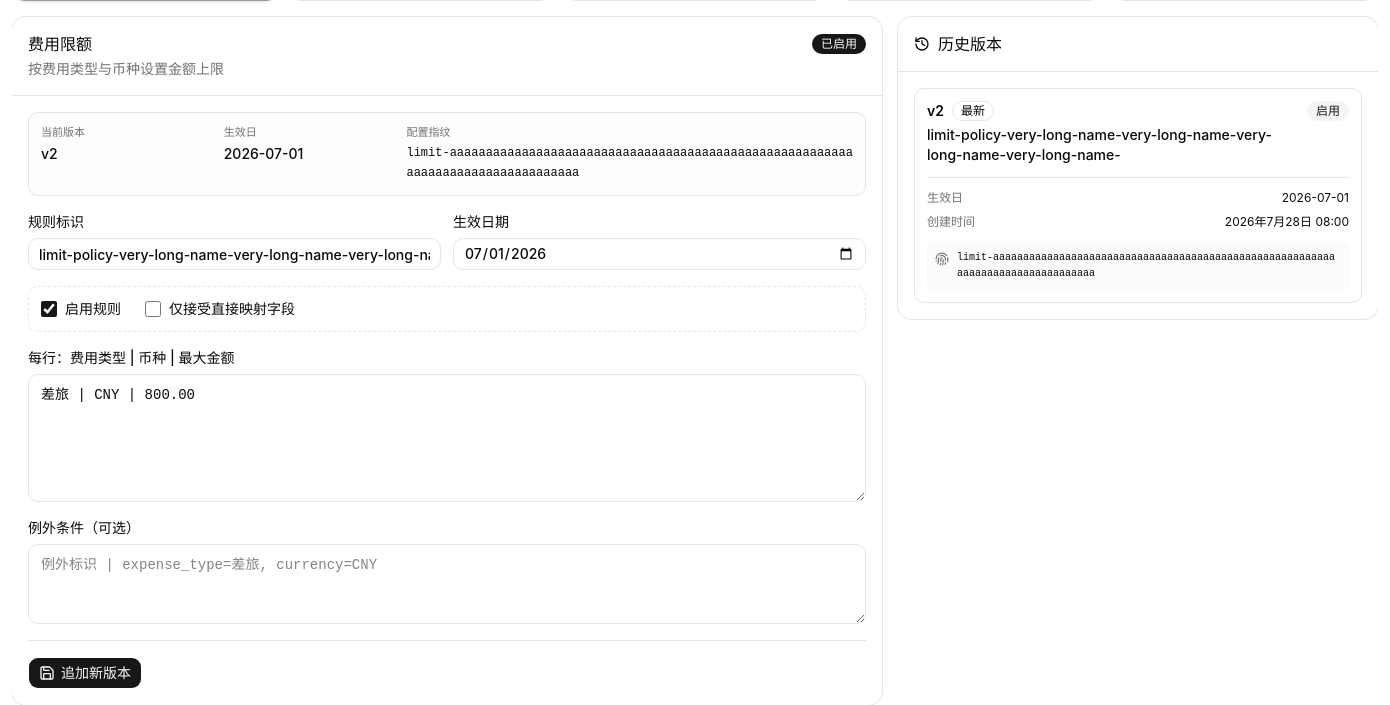
it: RulesPage › 200 响应提示幂等复用，422 显示服务端校验错误
(page scrolled)
Expected: the text box showing "差旅 | CNY | 800.00" is shown, [28,374,866,502]
Click the button "追加新版本": (85, 673) [28,657,142,689]
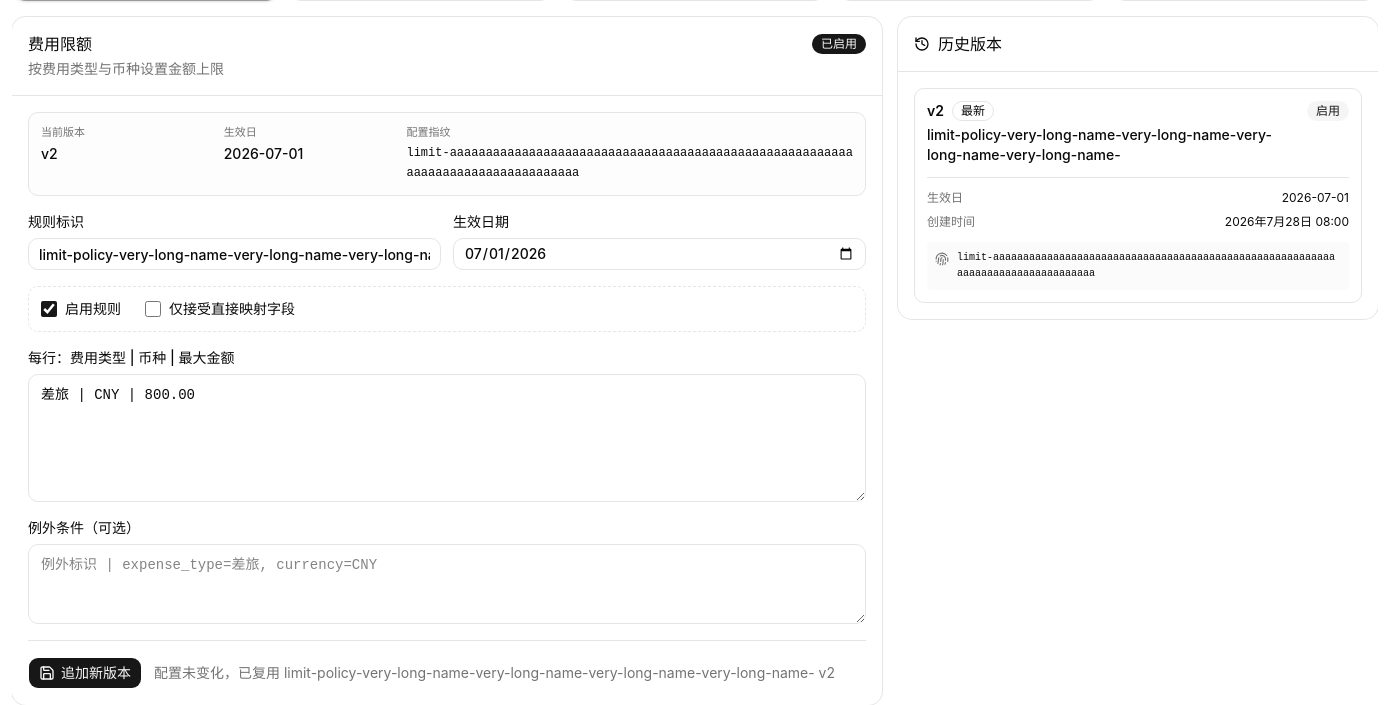
Expected: the message shows "配置未变化，已复用", [154,664,835,681]
Click the button "追加新版本": (85, 673) [28,657,142,689]
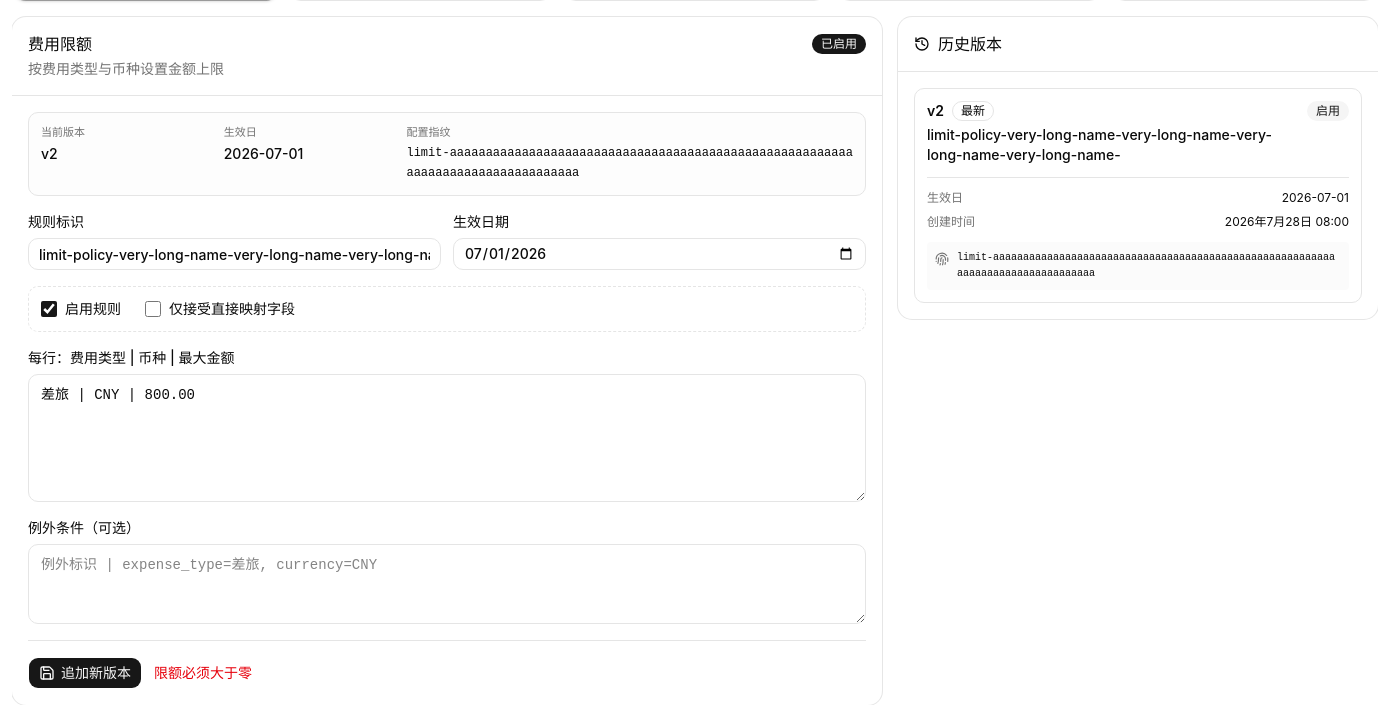
Expected: the message reads "限额必须大于零", [154,664,252,681]
